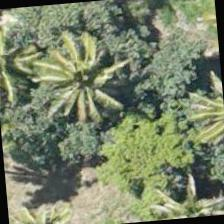Kelapa_Sawit: (14, 26, 112, 124)
